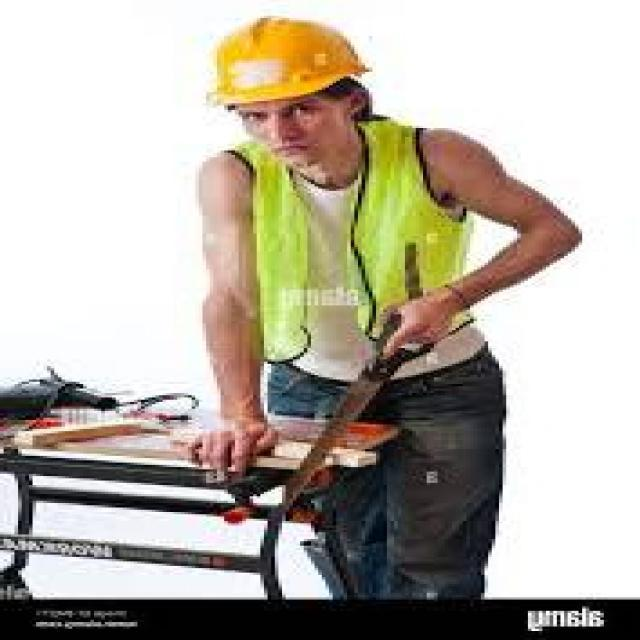reflective_jacket: (213, 127, 495, 375)
safety_helmet: (199, 11, 376, 112)
